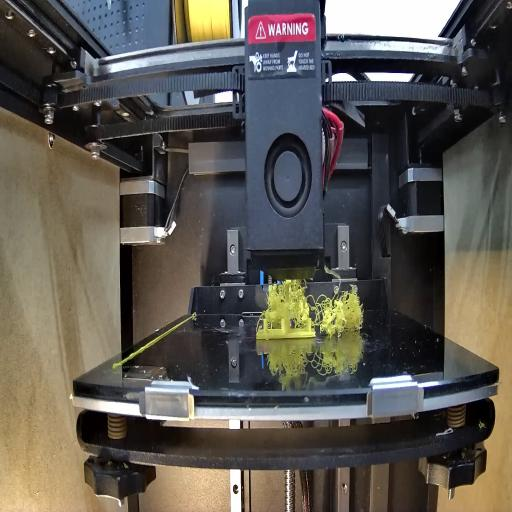spaghetti: (310, 275, 366, 331), (258, 275, 312, 326)
